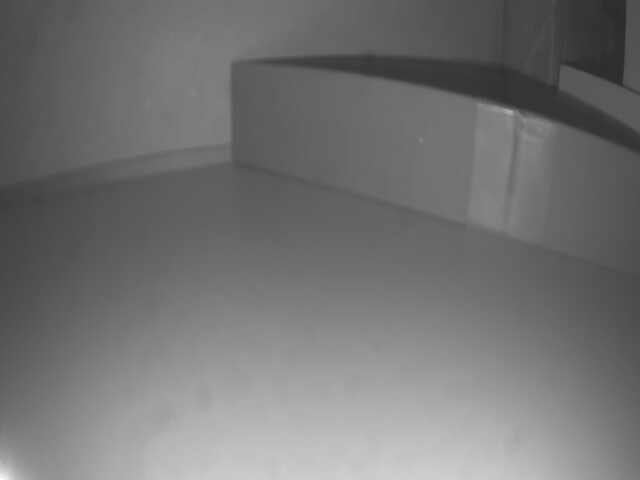Green: (231, 61, 640, 271)
